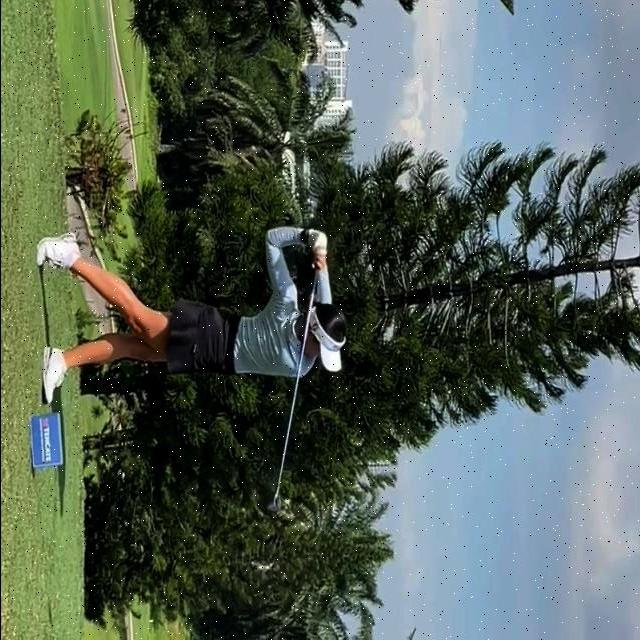ClubHandle: (264, 266, 317, 511)
ClubHead: (263, 493, 280, 512)
